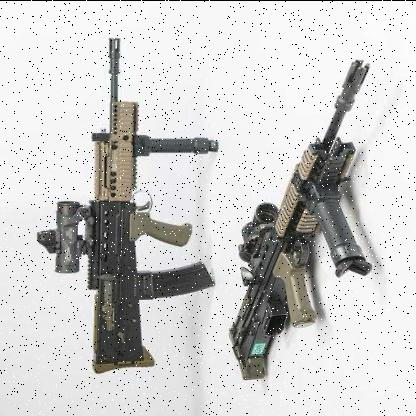rifle: (28, 14, 226, 396), (219, 41, 385, 389)
